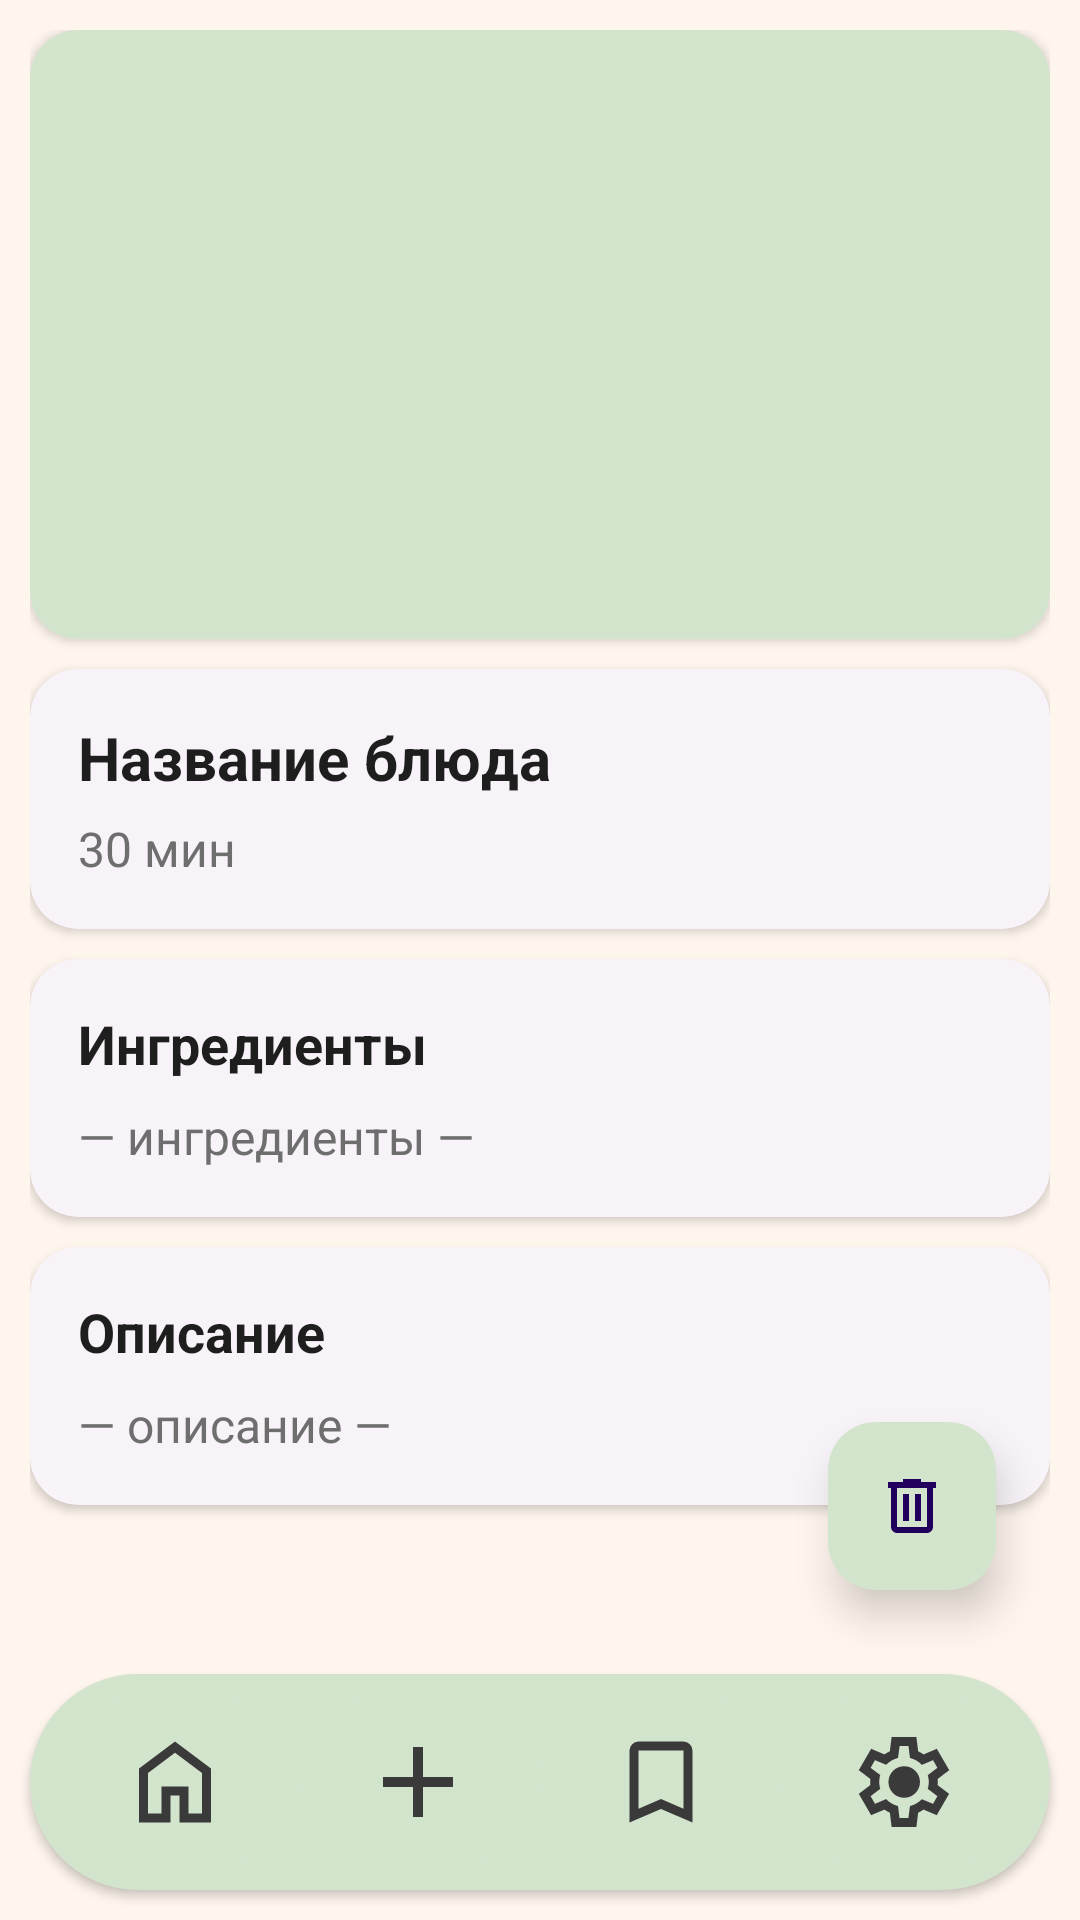

Icons on this 1080w x 1920h Android screen, each with the point to tap as (x=x, y=y):
add: (x=418, y=1782)
bookmark: (x=661, y=1782)
home: (x=175, y=1782)
settings: (x=904, y=1782)
Удалить рецепт: (x=912, y=1506)
